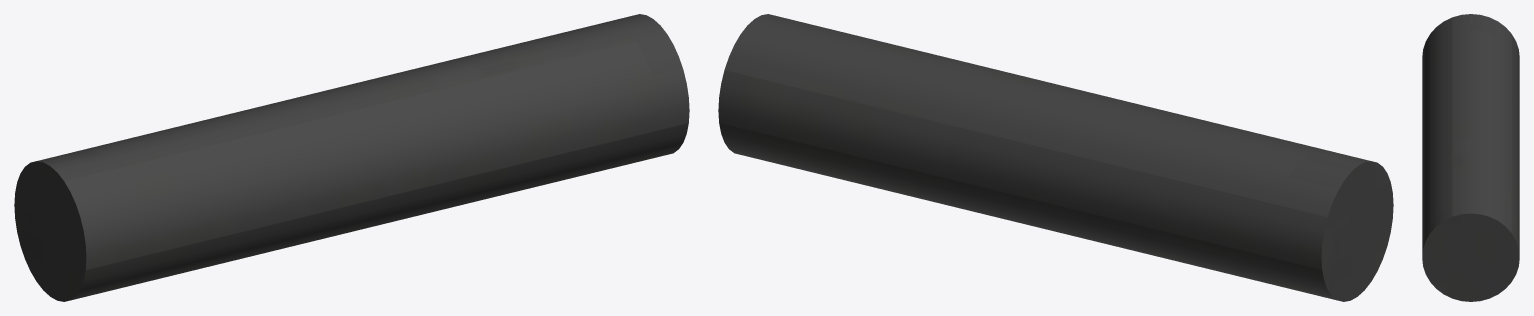
The model's file is front_right_caster__axle.glb.
3 views of the same model, side by side, from view 1: azimuth 30°, elevation 25°; view 2: azimuth 150°, elevation 25°; view 3: azimuth 270°, elevation 25° (orthographic). The views are drawn at different scales.
Visible parts, largest first — view 1: geometry_0; view 2: geometry_0; view 3: geometry_0.
Part boxes in pixels (box(x1,y1,x2,y2)): geometry_0: box(14, 14, 689, 301); geometry_0: box(718, 14, 1393, 301); geometry_0: box(1422, 14, 1519, 301).
Size of the model in its own units: 0.058 by 0.012 by 0.012.
1 material, 1 textured.
